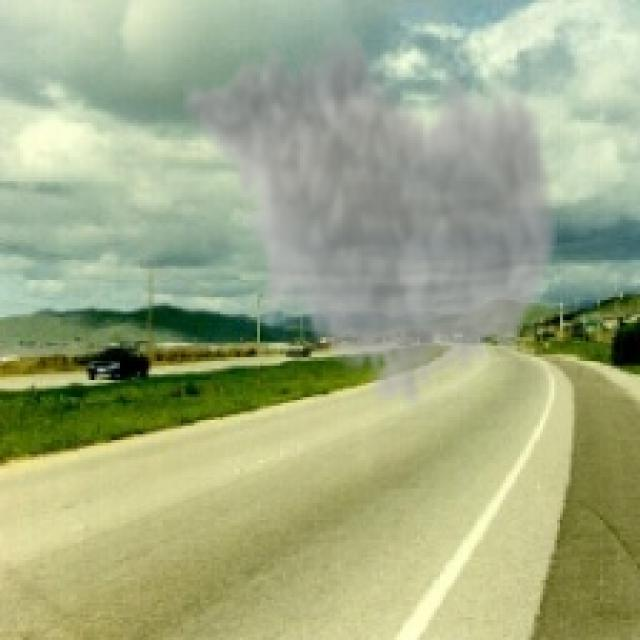smoke: (177, 20, 563, 420)
